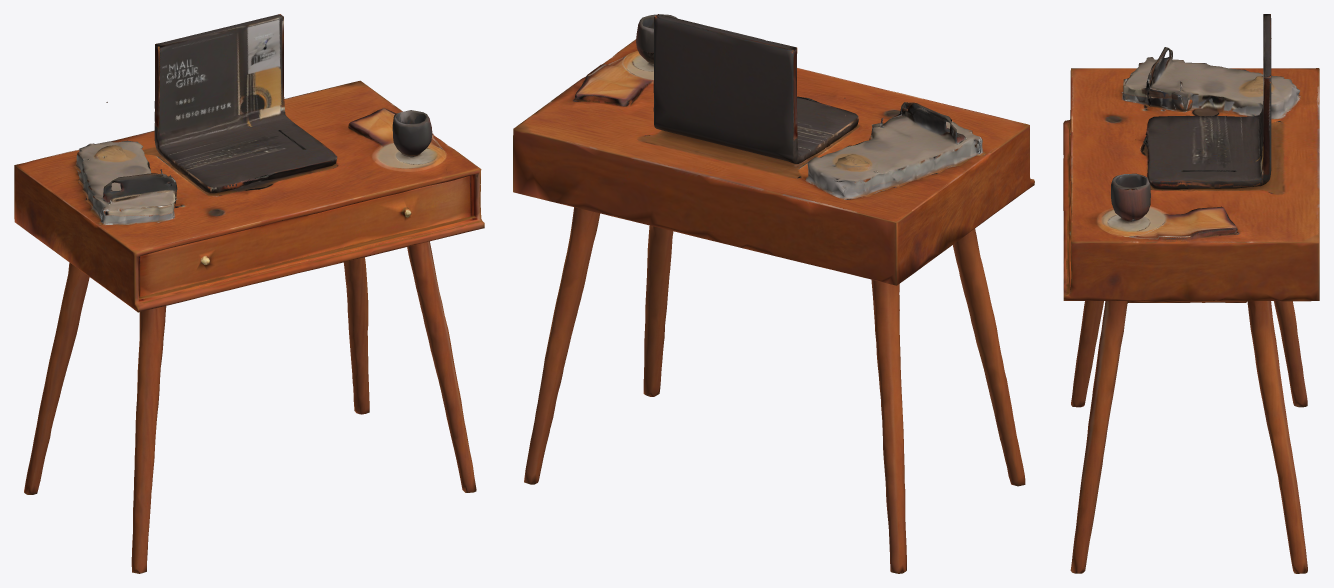
The model's file is table.glb.
3 renders of one model, left to right at view 1: azimuth 30°, elevation 25°; view 2: azimuth 150°, elevation 25°; view 3: azimuth 270°, elevation 25°, orthographic. The views are drawn at different scales.
Size of the model in its own units: 1.68 by 2 by 1.04.
1 material, 1 textured.
